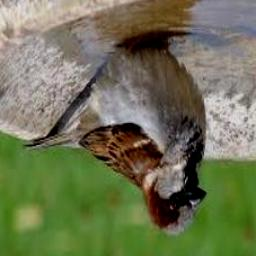Sparrow: (23, 41, 206, 237)
